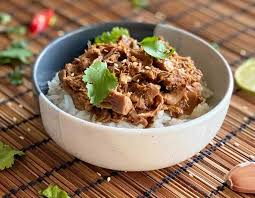rendang: (53, 25, 215, 134)
